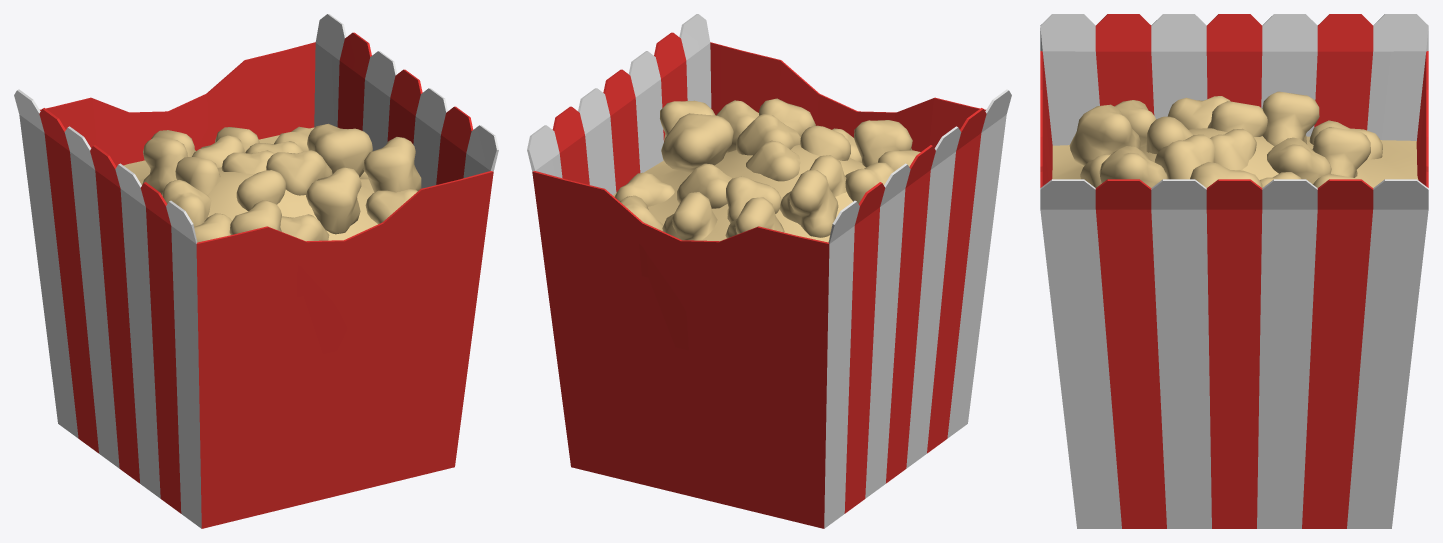
The model's file is Popcorn.fbx.
The picture shows the model from 3 angles, left to right: view 1: azimuth 30°, elevation 25°; view 2: azimuth 150°, elevation 25°; view 3: azimuth 270°, elevation 25°; orthographic projection. The views are drawn at different scales.
Parts seen in each view (by area): view 1: Popcorns; view 2: Popcorns; view 3: Popcorns.
Boxes of the visible parts, x1,y1,x2,y2 form: Popcorns: (14,14,498,528); Popcorns: (527,14,1011,528); Popcorns: (1040,14,1428,528).
Bounding box in the file's own units: 144 × 146 × 141.
